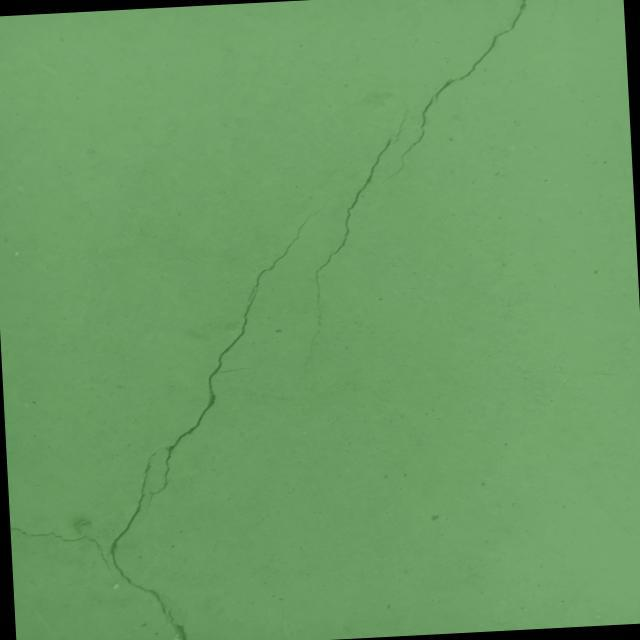crack: (131, 196, 346, 508), (291, 117, 420, 370), (372, 0, 537, 183), (102, 451, 188, 640), (10, 522, 110, 576)
